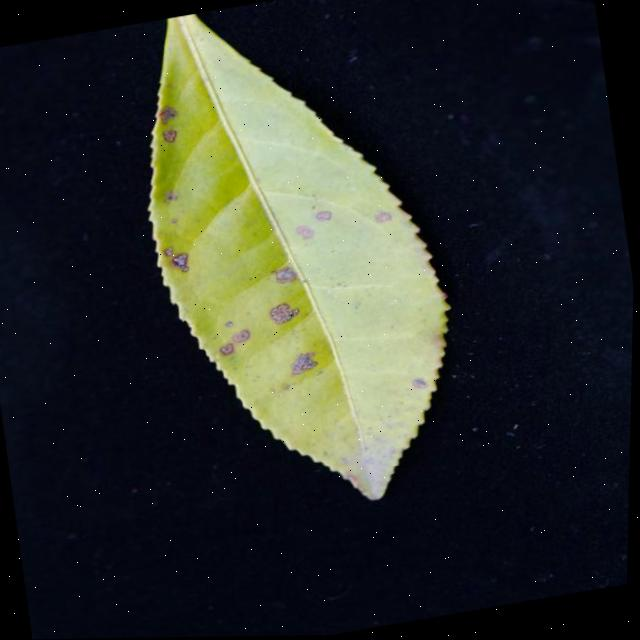Tea red rust: (127, 32, 473, 477)
